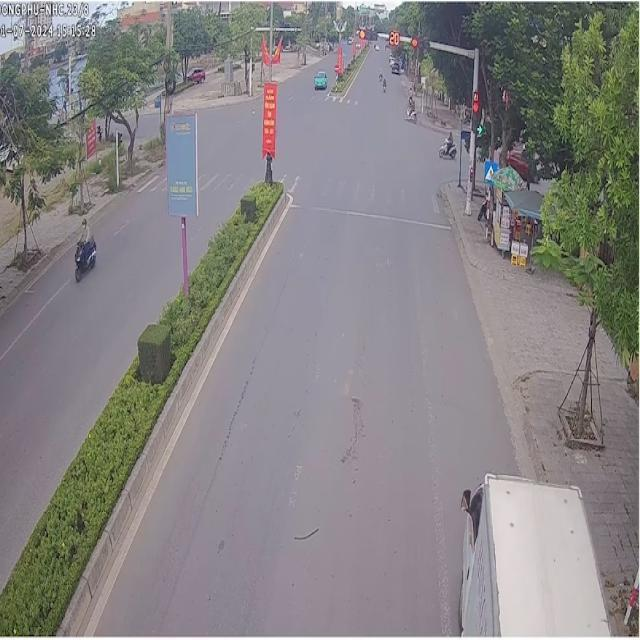car: (458, 470, 608, 635)
red_light: (469, 88, 479, 131), (356, 24, 376, 39)
stop_line: (287, 202, 453, 228)
yellow_light: (382, 31, 387, 36)
